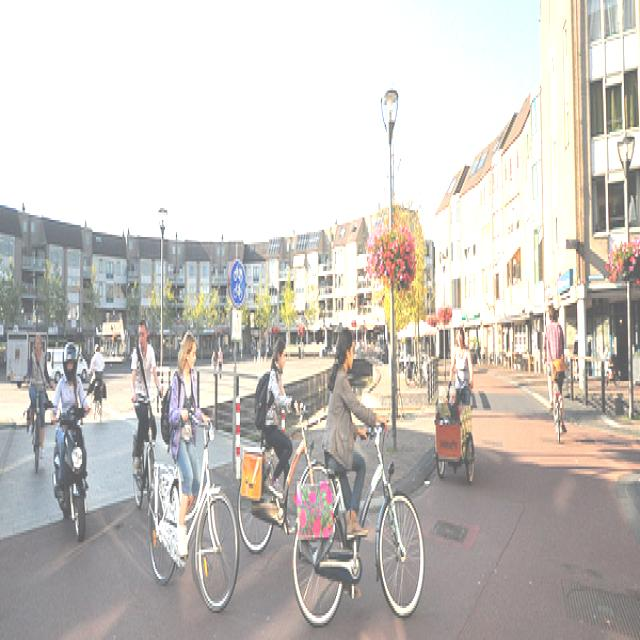Vehicle: (54, 406, 90, 536)
